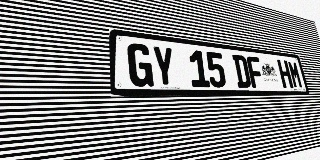1: (188, 49, 210, 87)
5: (206, 51, 227, 87)
D: (232, 54, 252, 88)
F: (246, 56, 265, 88)
G: (127, 43, 154, 87)
H: (277, 59, 294, 88)
M: (287, 61, 303, 88)
Y: (151, 45, 176, 87)
